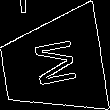M_W: (27, 37, 79, 91)
